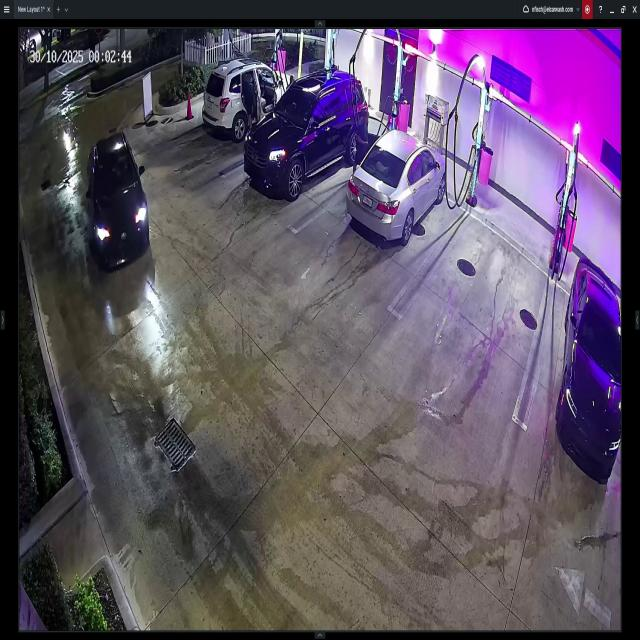Car: (243, 70, 366, 198), (554, 258, 620, 487), (348, 129, 445, 241), (86, 134, 150, 272), (201, 58, 289, 142)
